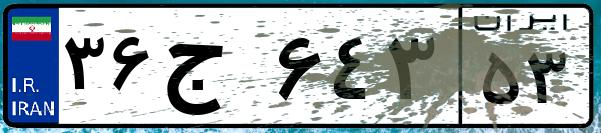3: (385, 28, 445, 110), (57, 26, 110, 100), (525, 38, 570, 115)
4: (330, 28, 385, 110)
5: (475, 38, 525, 113)
6: (270, 28, 330, 110), (110, 28, 158, 98)
ج: (158, 20, 270, 120)
